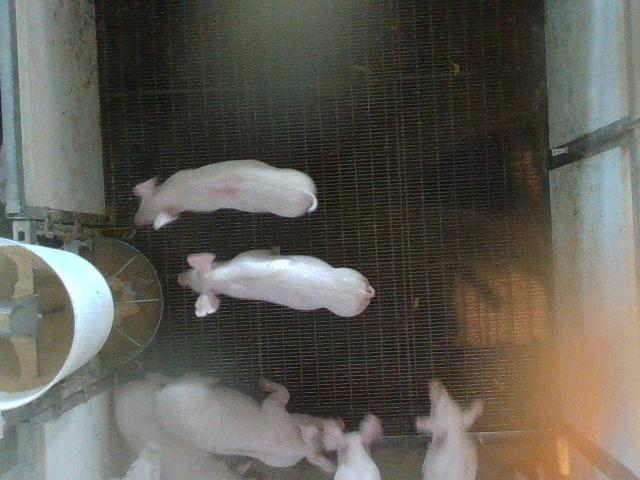pig-3: (155, 378, 335, 472)
pig-4: (134, 159, 318, 229)
